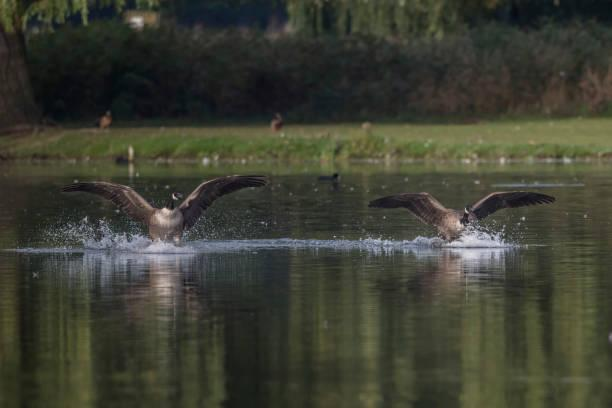Canadian-Goose: (61, 168, 269, 239), (368, 187, 554, 244)
